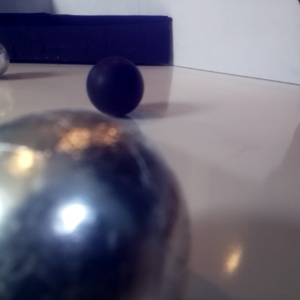zone: (1, 12, 172, 64)
